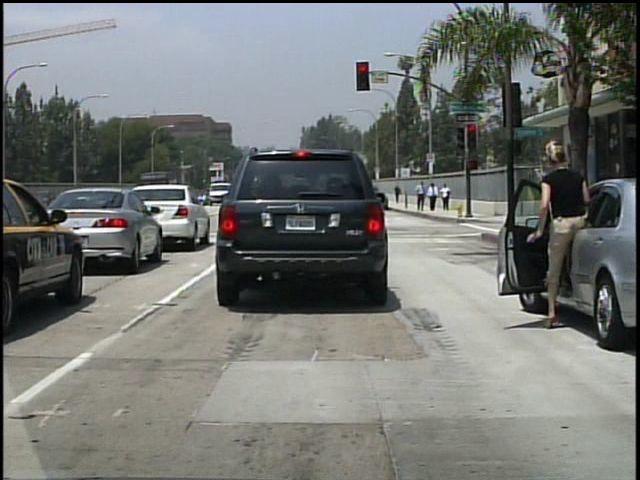person: (530, 141, 603, 336), (416, 179, 427, 212), (441, 183, 453, 212), (428, 183, 439, 212), (394, 184, 404, 205)
